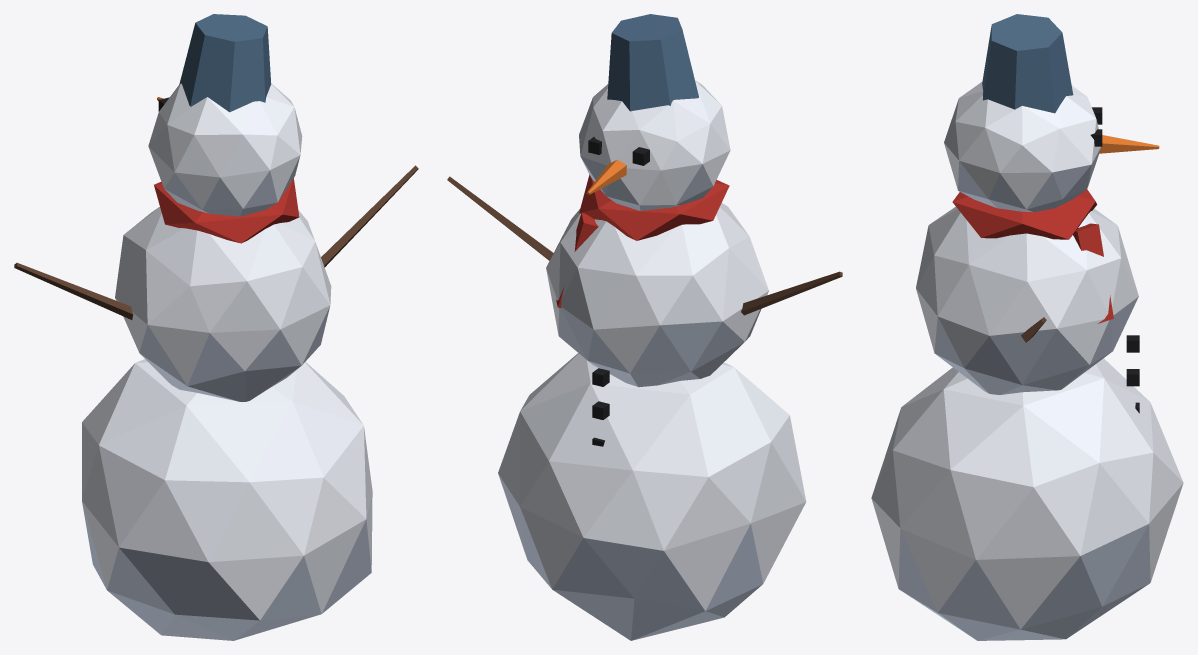
Rendered from snowman.glb.
The picture shows the model from 3 angles, left to right: view 1: azimuth 30°, elevation 25°; view 2: azimuth 150°, elevation 25°; view 3: azimuth 270°, elevation 25°; orthographic projection. The views are drawn at different scales.
Visible parts, largest first — view 1: snowman; view 2: snowman; view 3: snowman.
Part boxes in pixels (x1,y1,x2,y2): snowman: [14, 14, 418, 640]; snowman: [447, 14, 842, 640]; snowman: [871, 14, 1183, 640].
Bounding box in the file's own units: 1.25 × 1.79 × 0.8395.
